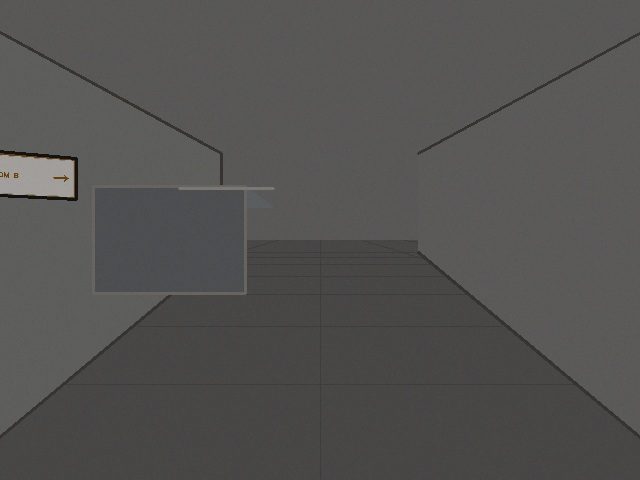directional_sign: (0, 150, 76, 199)
hospital_bed: (93, 186, 273, 293)
